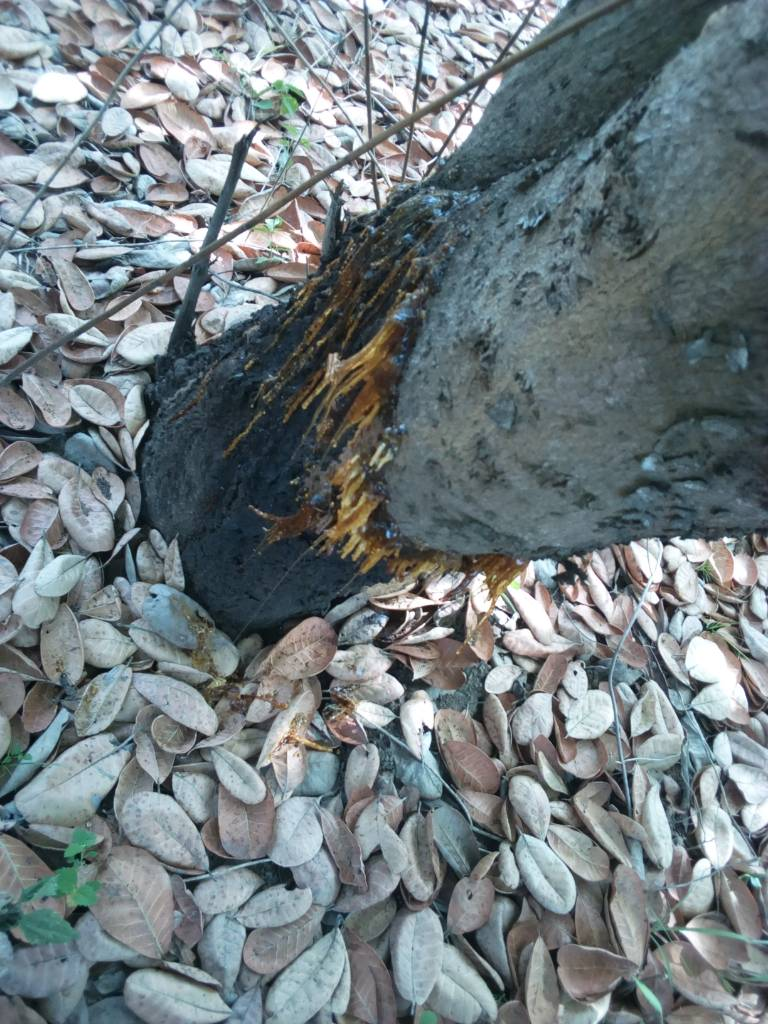Gommose: (218, 227, 430, 614)
